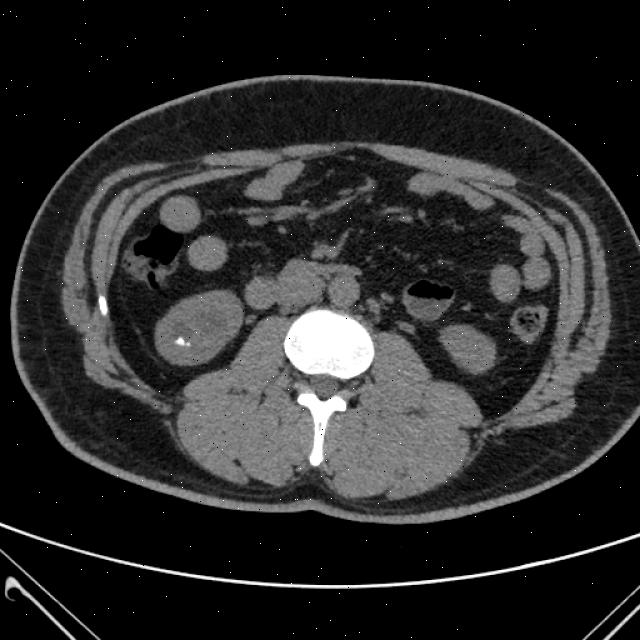kidneystone: (174, 336, 191, 348)
